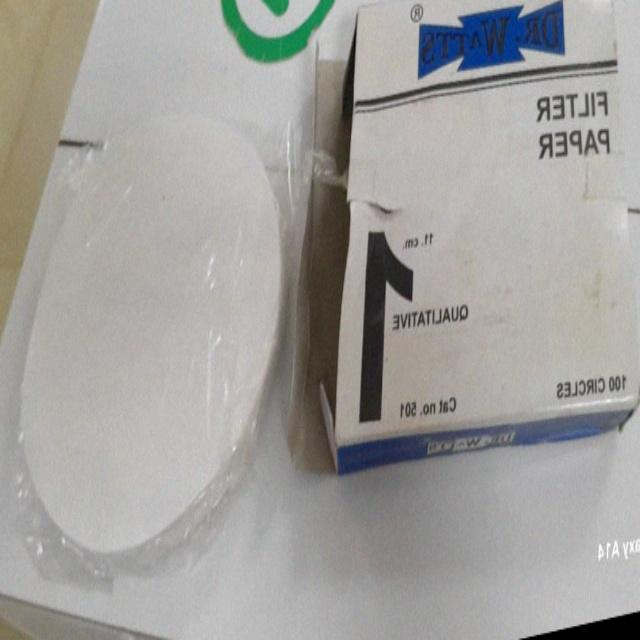Filter paper: (16, 78, 287, 591)
